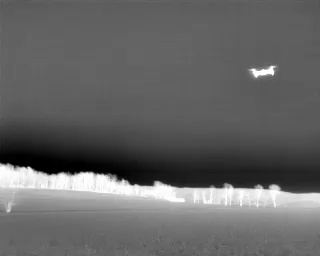DRONE: (244, 60, 281, 83)
